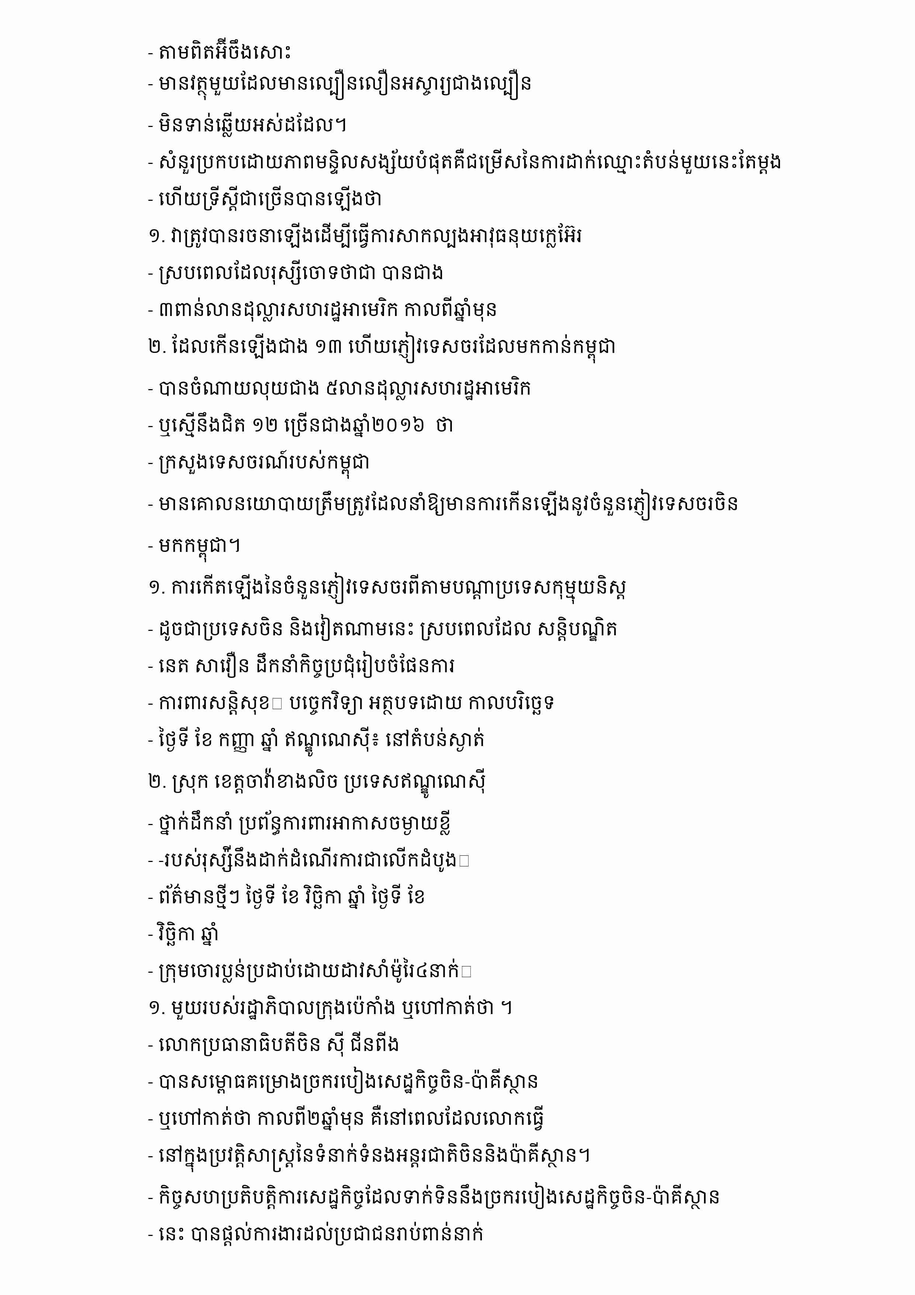text: (148, 489, 744, 521), (148, 148, 787, 174), (148, 1182, 725, 1209), (148, 572, 632, 604), (148, 332, 621, 364), (148, 1142, 595, 1172), (148, 614, 623, 641), (148, 69, 537, 100), (148, 1066, 544, 1094), (148, 223, 587, 248), (148, 767, 491, 798), (148, 726, 490, 757), (148, 1105, 549, 1131), (148, 690, 560, 715), (148, 376, 537, 401), (148, 995, 518, 1020), (148, 296, 503, 322), (148, 845, 476, 872), (148, 651, 460, 678), (148, 958, 478, 983), (148, 1222, 489, 1246), (148, 412, 459, 437), (148, 810, 456, 835), (148, 260, 449, 285), (148, 883, 431, 909), (148, 1031, 405, 1057), (148, 450, 375, 479), (148, 186, 387, 211), (148, 112, 352, 137), (148, 37, 297, 59), (148, 537, 246, 563), (148, 921, 224, 946)
